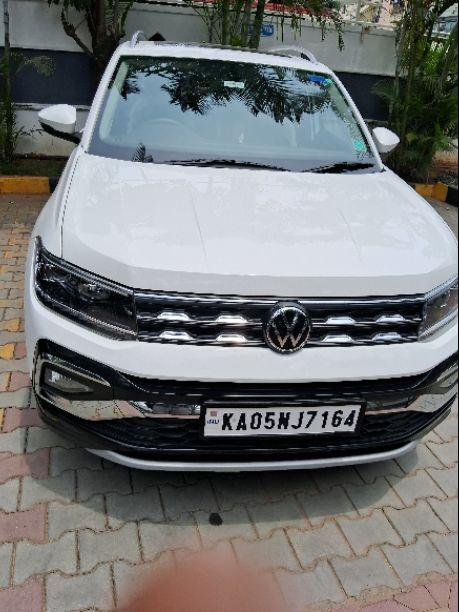license_plate: (200, 400, 364, 437)
